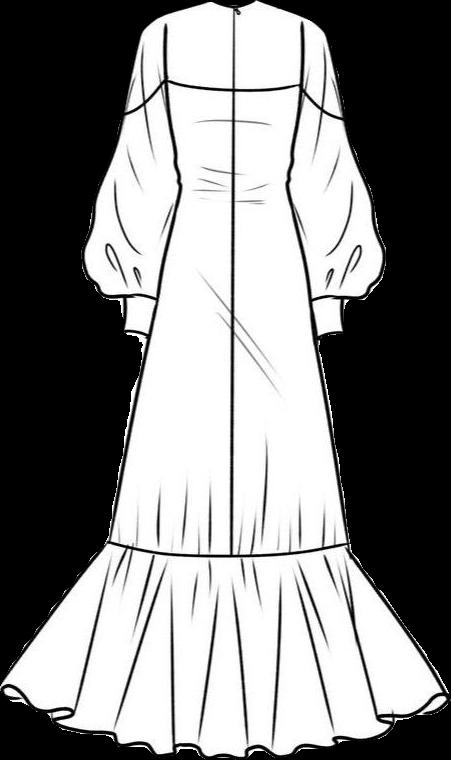Bodice: (163, 1, 304, 196)
Hemline: (0, 680, 450, 759)
Neckline: (160, 76, 304, 98), (206, 0, 259, 17)
Skirt: (1, 197, 449, 758)
Sleeve: (81, 14, 182, 339), (288, 15, 385, 343)
Sleeveline: (298, 84, 344, 121), (124, 79, 168, 117), (298, 17, 313, 89), (158, 15, 172, 84), (119, 288, 157, 301), (312, 290, 353, 301)
Waistline: (104, 536, 352, 562)
